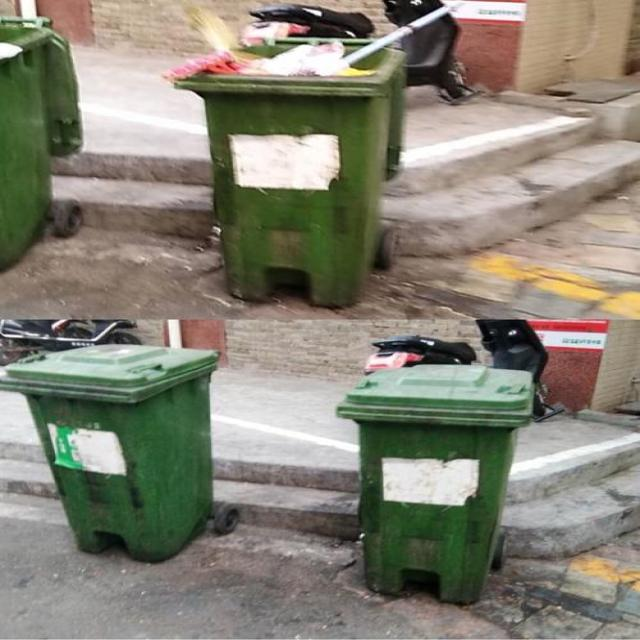garbage_bin: (0, 342, 219, 564), (334, 364, 531, 604), (0, 15, 81, 274)
overflow: (163, 5, 448, 302)
